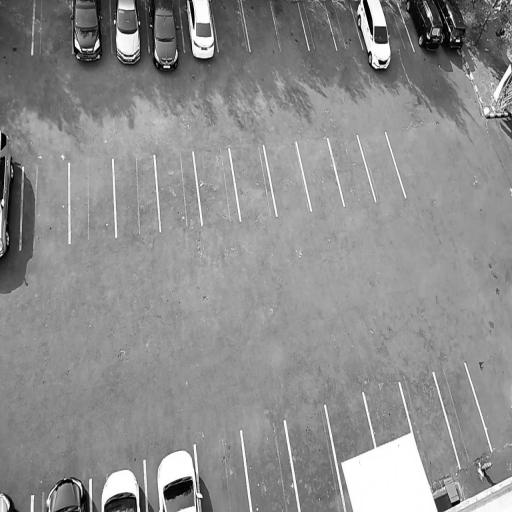Car: (149, 446, 201, 512), (354, 0, 397, 71), (147, 0, 184, 74), (0, 128, 17, 261), (112, 0, 145, 68), (182, 0, 218, 61), (73, 0, 105, 68), (403, 0, 444, 53), (99, 465, 142, 512), (434, 0, 469, 54), (44, 472, 89, 512)
Space Available: (401, 373, 459, 484), (287, 407, 346, 512), (435, 365, 491, 470), (242, 423, 298, 512), (196, 432, 251, 512), (21, 164, 68, 247), (71, 159, 115, 243), (114, 155, 159, 236), (155, 152, 201, 230), (230, 146, 276, 220), (194, 149, 239, 224), (327, 394, 375, 464), (264, 142, 309, 215), (329, 134, 375, 205), (297, 138, 343, 209), (358, 132, 405, 200), (364, 383, 411, 447), (33, 0, 73, 54), (324, 0, 363, 50), (211, 0, 249, 51), (241, 0, 279, 51), (271, 0, 309, 51), (298, 0, 336, 50), (1, 1, 34, 56), (382, 0, 414, 51)
